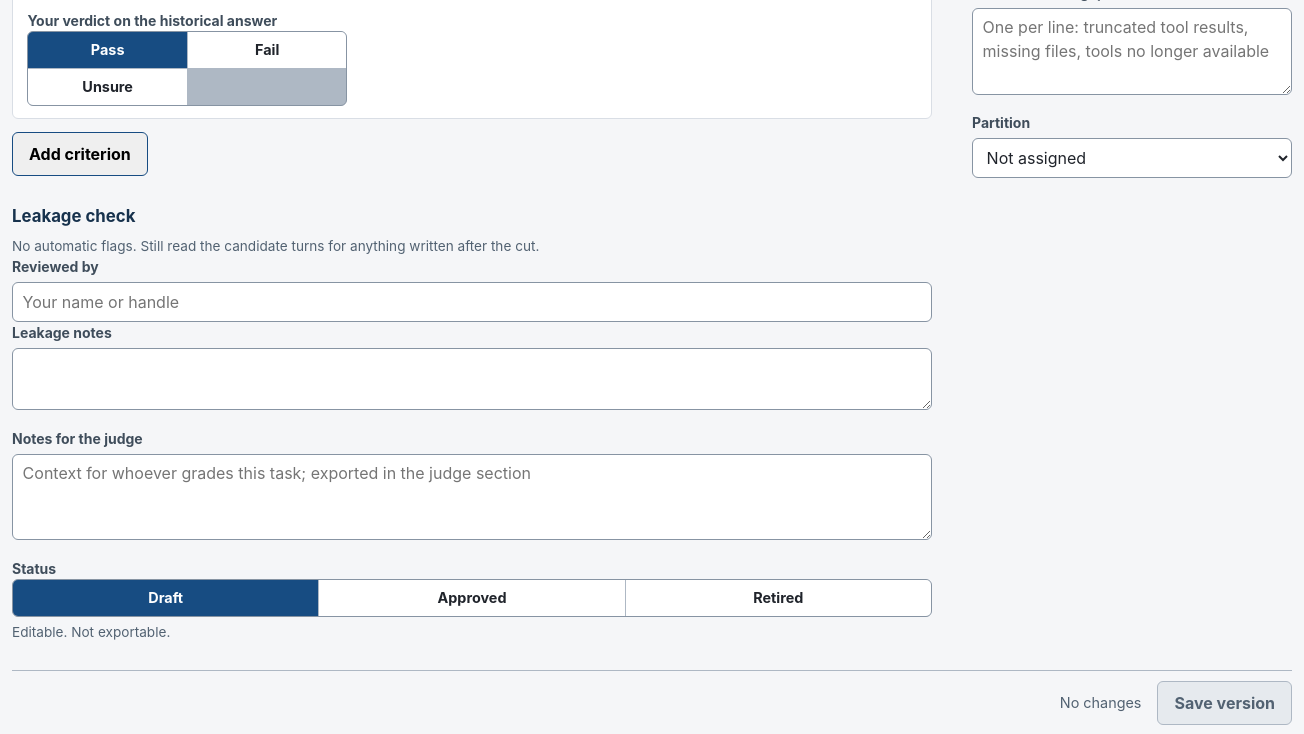
Scenario: task editor › reports a criterion issue on the criterion it concerns
(page scrolled)
Type "x" into the text box labelled "Notes for the judge". click: (472, 497)
box: x1=12 y1=454 x2=932 y2=540
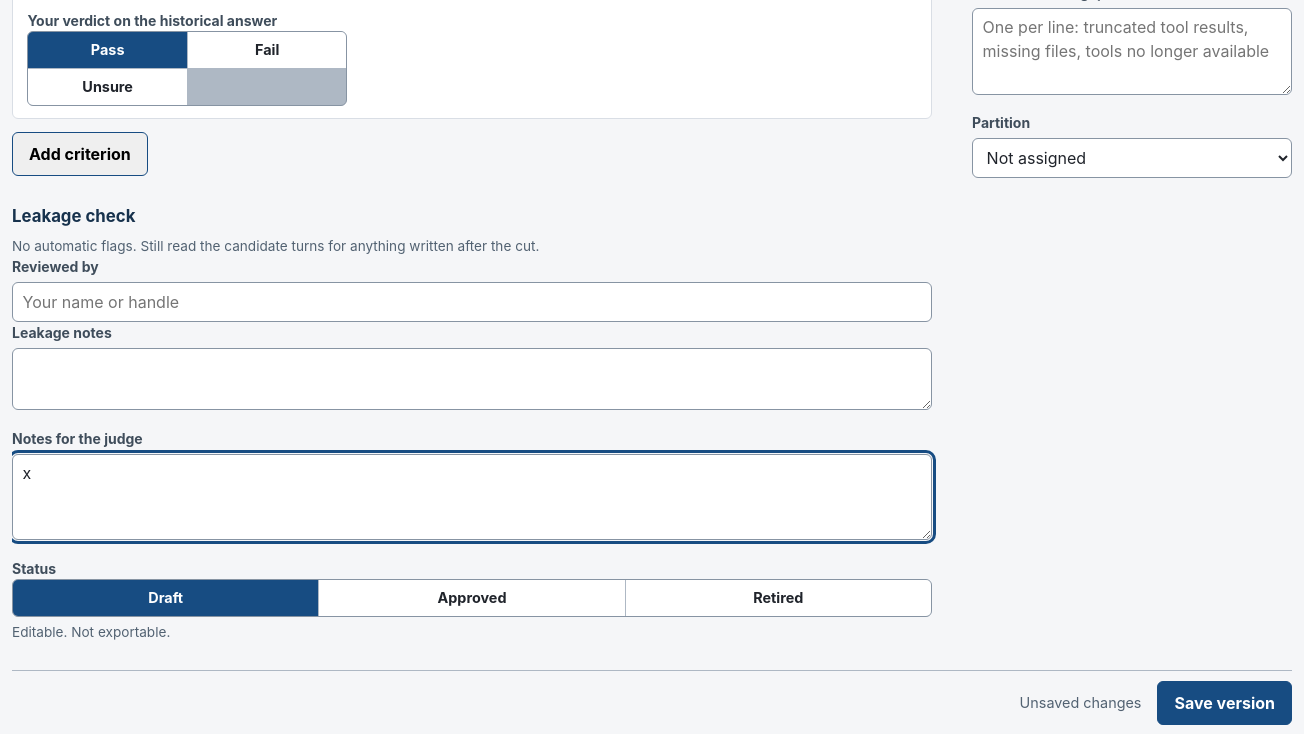
Click the button "Save version". click: (1225, 702)
box: x1=1158 y1=680 x2=1292 y2=724
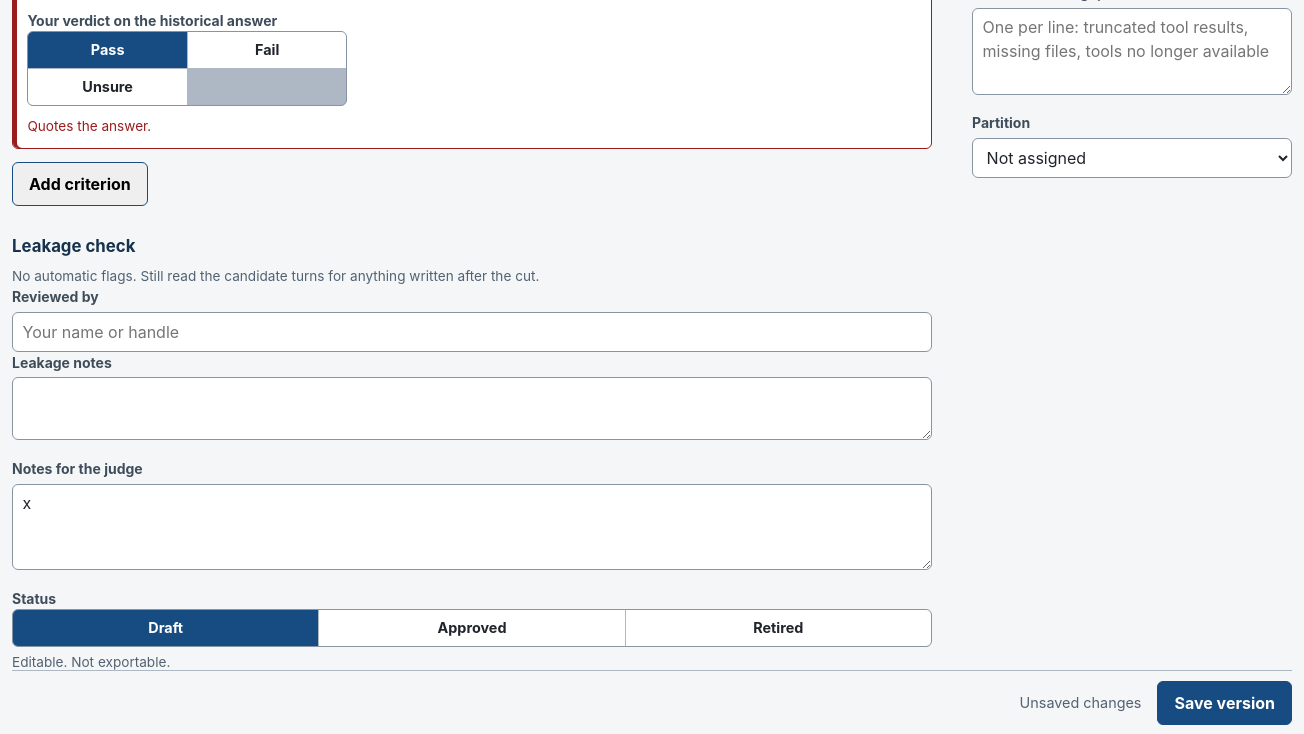
Expected: the text "Quotes the answer." is shown, x1=27 y1=118 x2=151 y2=134
